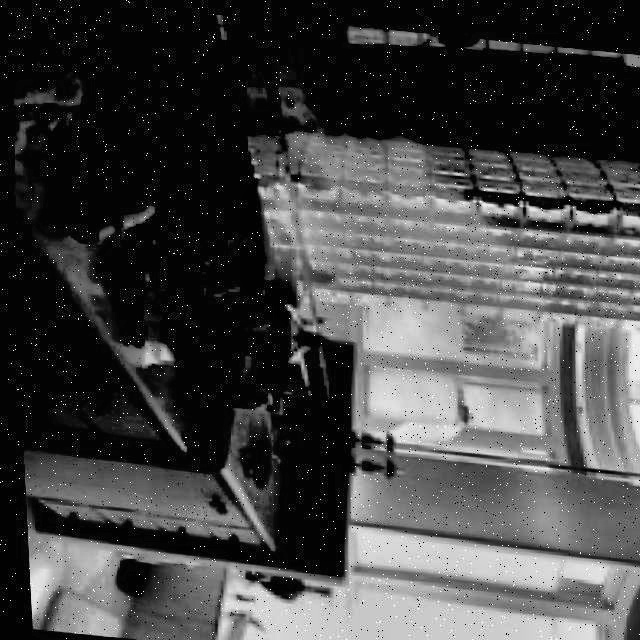Smoke: (210, 71, 601, 535)
